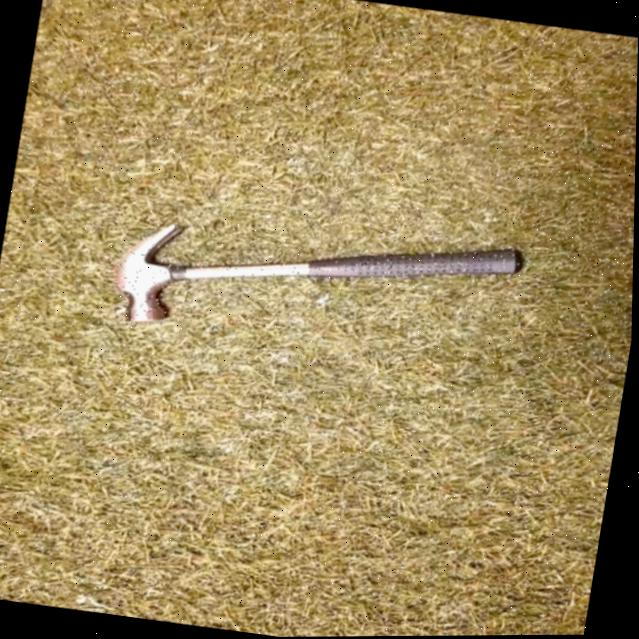hammer: (106, 200, 528, 376)
